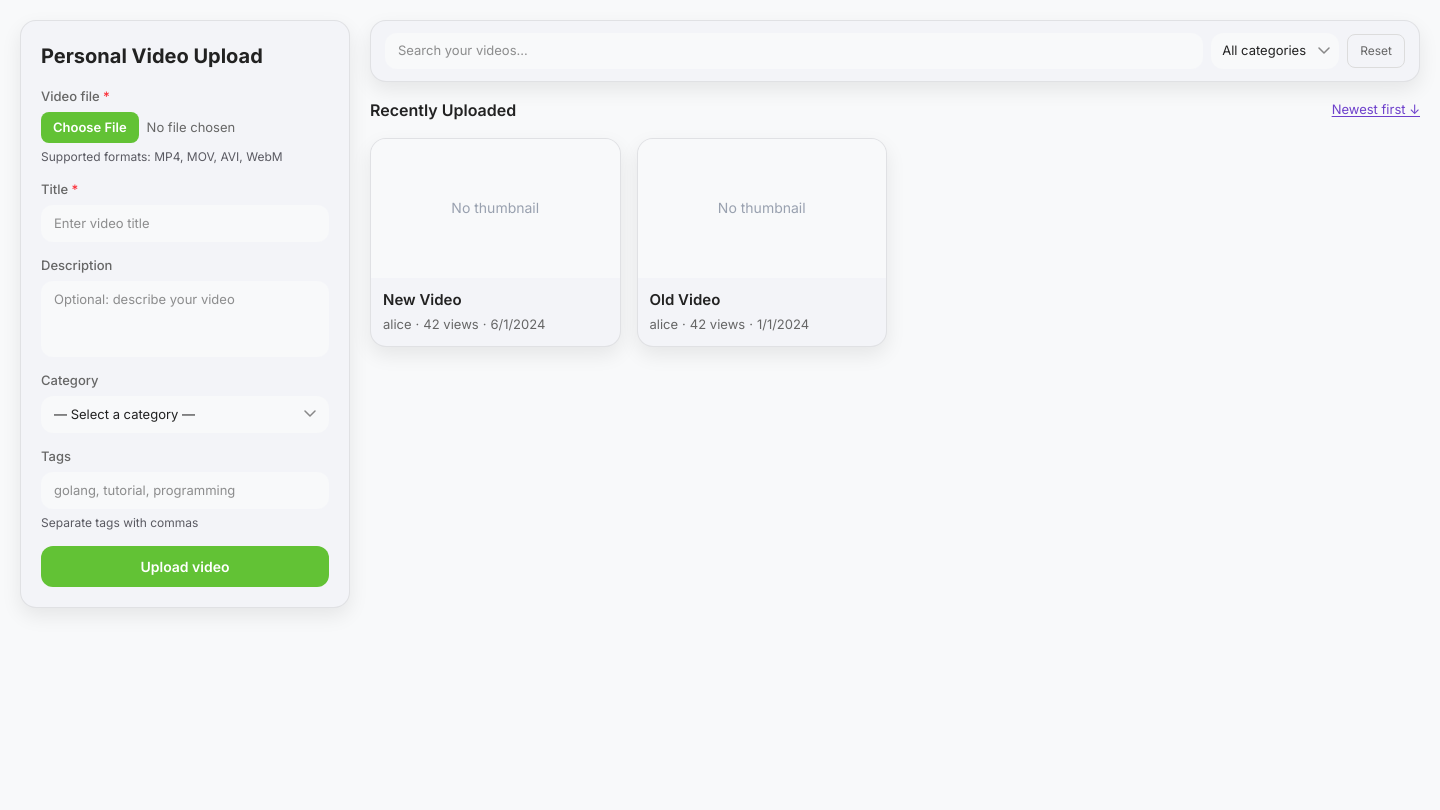
Scenario: UploadPage › sorts videos oldest first after toggling sort order
The width and height of the screenshot is (1440, 810).
Expected: the link "New Video" is shown, [383,290,462,309]
Click the button "Newest first ↓": (1376, 110) [1332,100,1420,119]
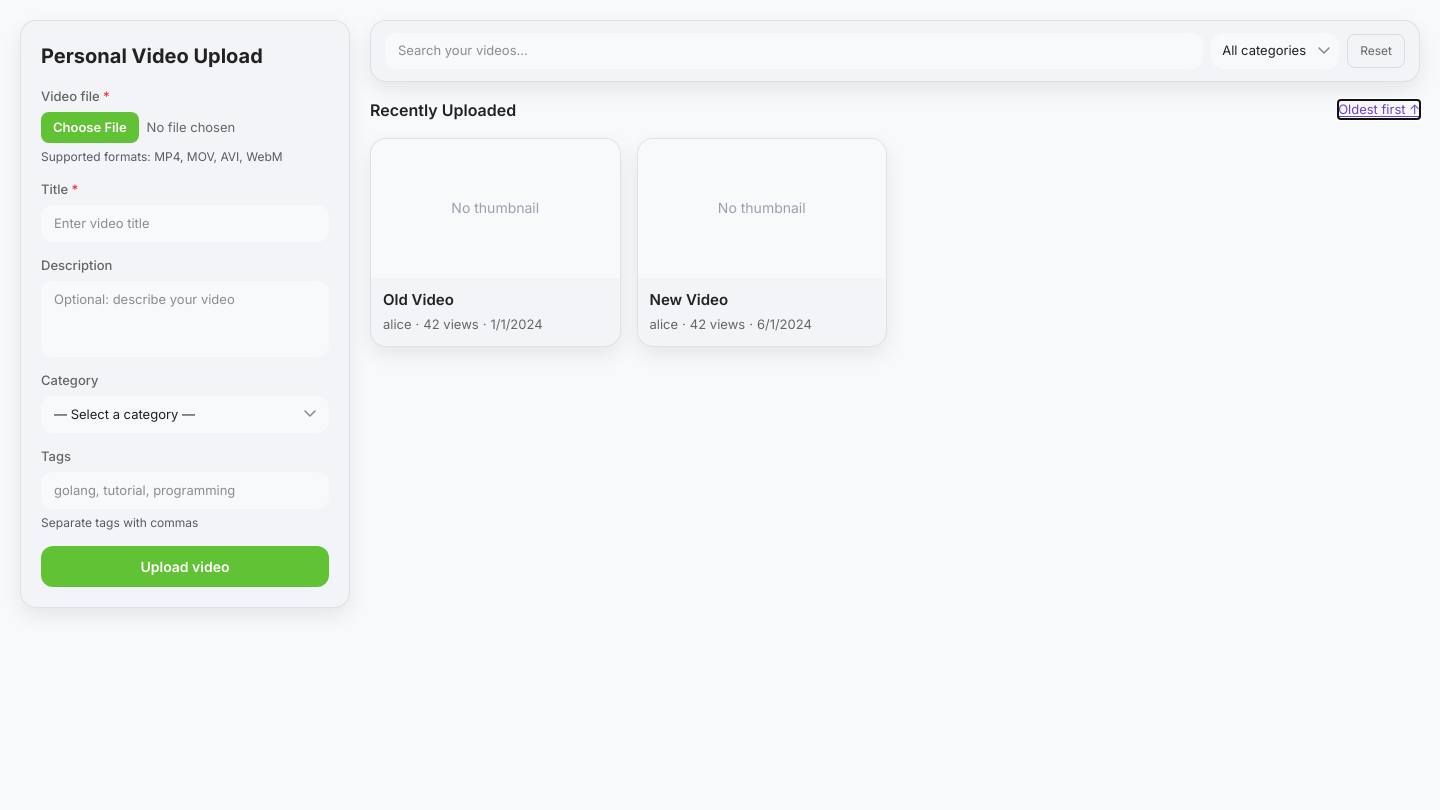
Expected: the button "Oldest first ↑" is shown, [1338,100,1420,119]
